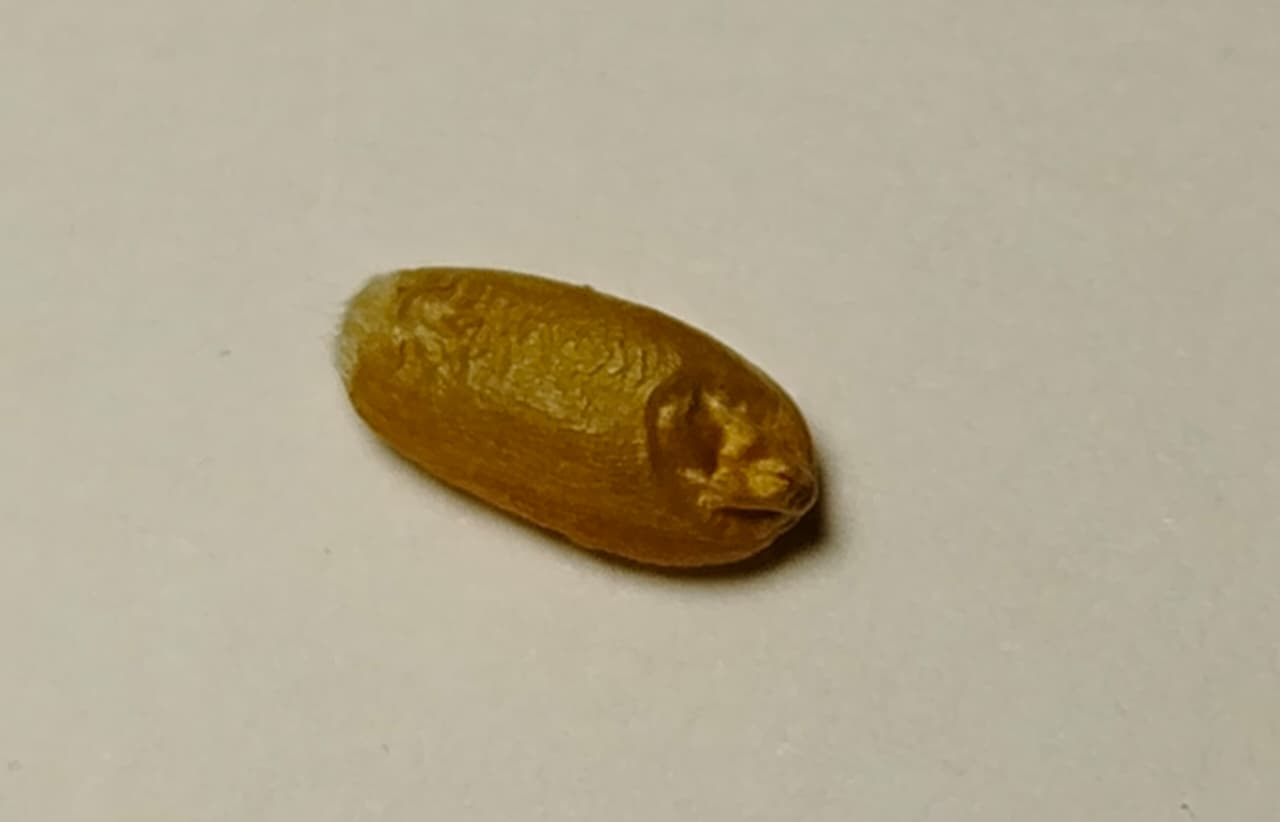healthy: (338, 268, 816, 564)
